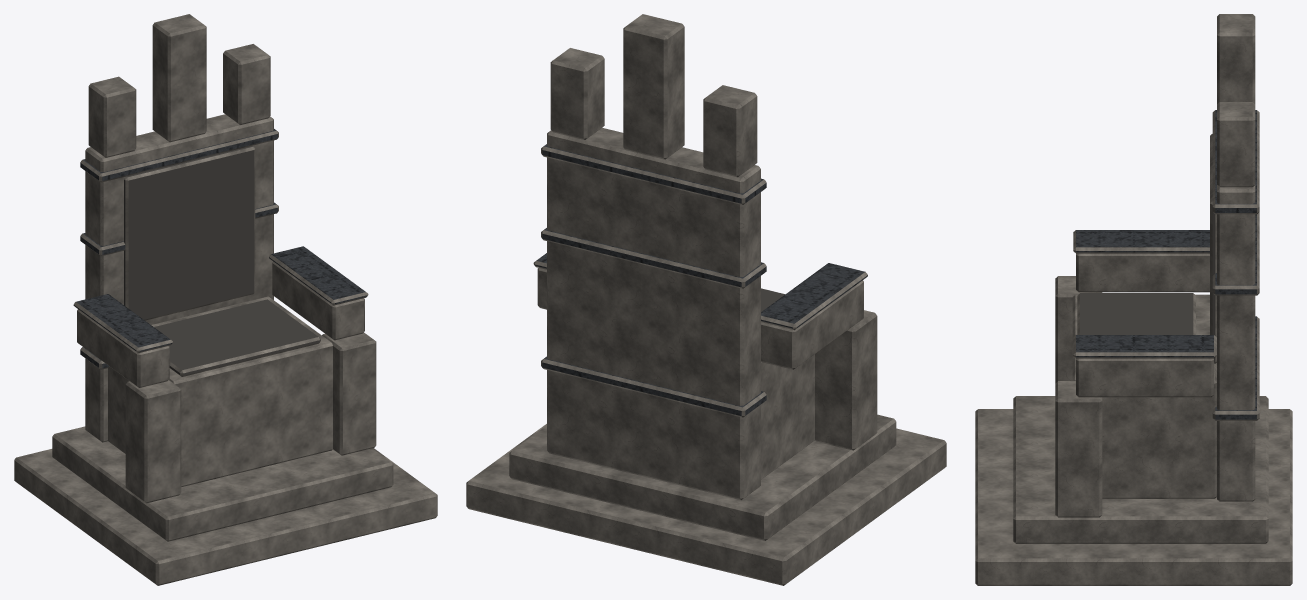
Rendered from throne.glb.
3 views of the same model, side by side, from view 1: azimuth 30°, elevation 25°; view 2: azimuth 150°, elevation 25°; view 3: azimuth 270°, elevation 25° (orthographic). The views are drawn at different scales.
Parts seen in each view (by area): view 1: throne; view 2: throne; view 3: throne.
Part boxes in pixels (left/top/right/bottom): throne: left=14, top=14, right=437, bottom=585; throne: left=466, top=14, right=946, bottom=585; throne: left=975, top=14, right=1292, bottom=585.
Size of the model in its own units: 2.6 by 3.9 by 2.3.
Materials: 3 (2 with a texture image).
